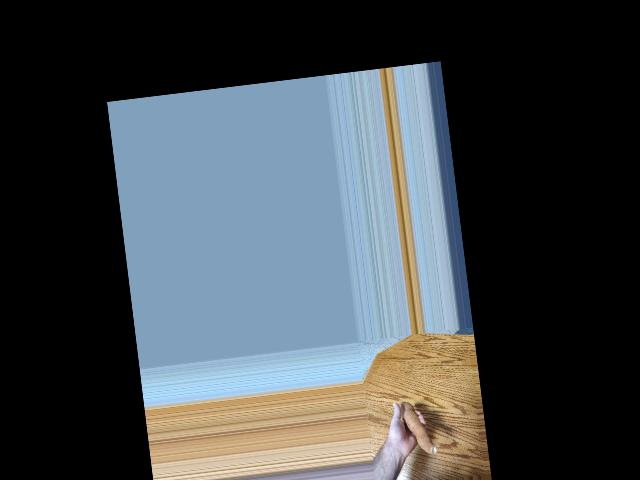sweet_potato: (400, 395, 436, 458)
